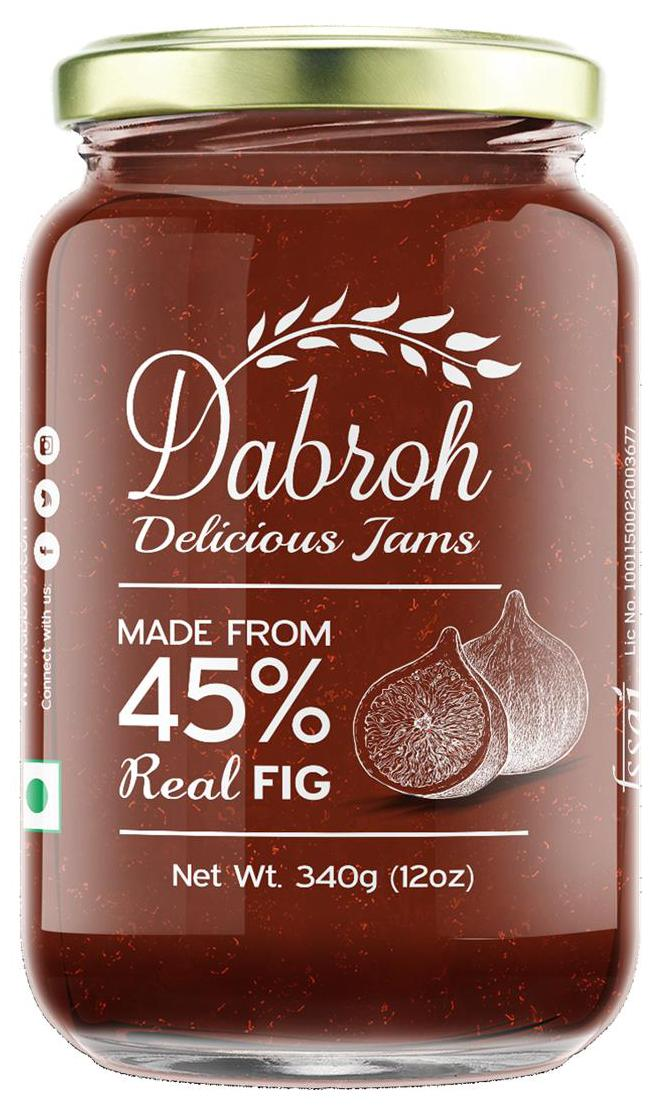JAR: (9, 15, 647, 1101)
